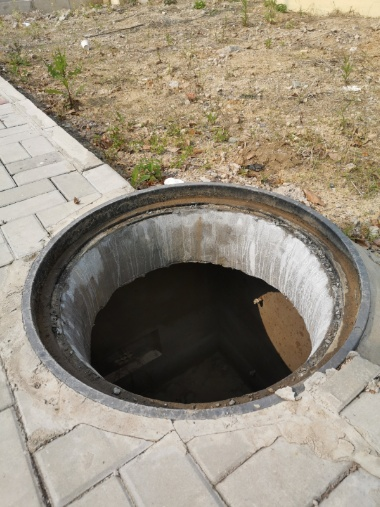lose: (21, 181, 373, 418)
